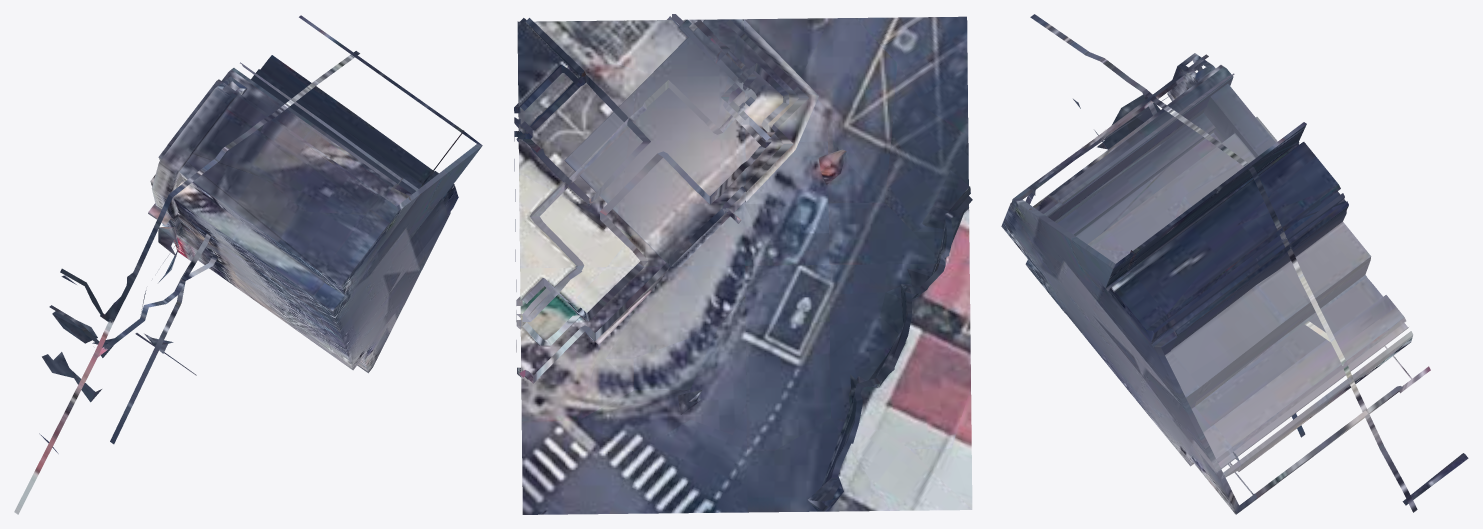
3 renders of one model, left to right at view 1: azimuth 30°, elevation 25°; view 2: azimuth 150°, elevation 25°; view 3: azimuth 270°, elevation 25°, orthographic. The views are drawn at different scales.
Size of the model in its own units: 44.17 by 37.84 by 38.24.
3 materials, 3 textured.
